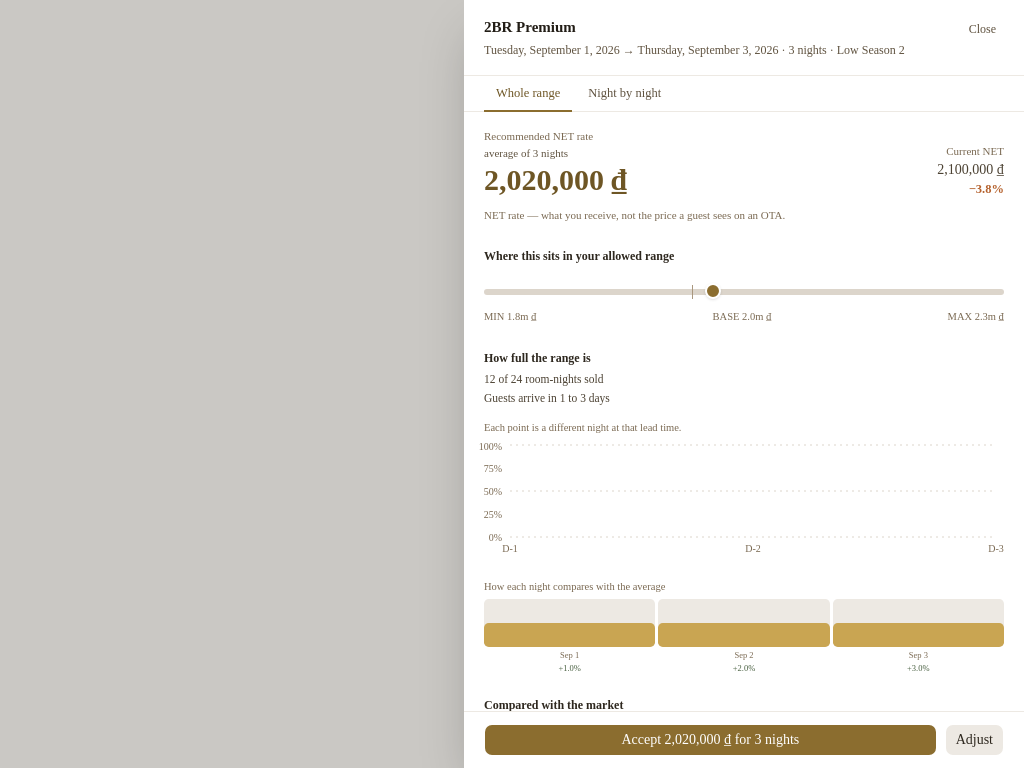
Scenario: RangeDrawer › explains the price in the night scope
The width and height of the screenshot is (1024, 768).
Click the tab "Night by night" at (625,94), box x1=576 y1=76 x2=673 y2=112
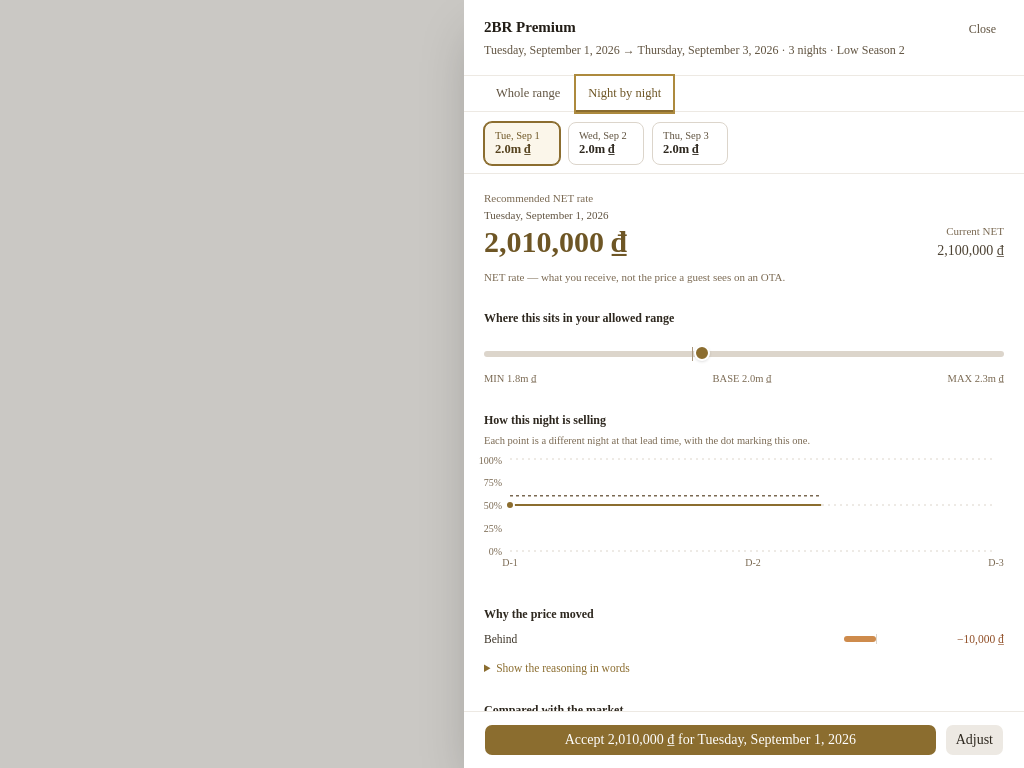
Now the heading "Why the price moved" is shown, box x1=484 y1=606 x2=594 y2=620
Now the heading "Show the reasoning in words" is shown, box x1=496 y1=662 x2=630 y2=674
